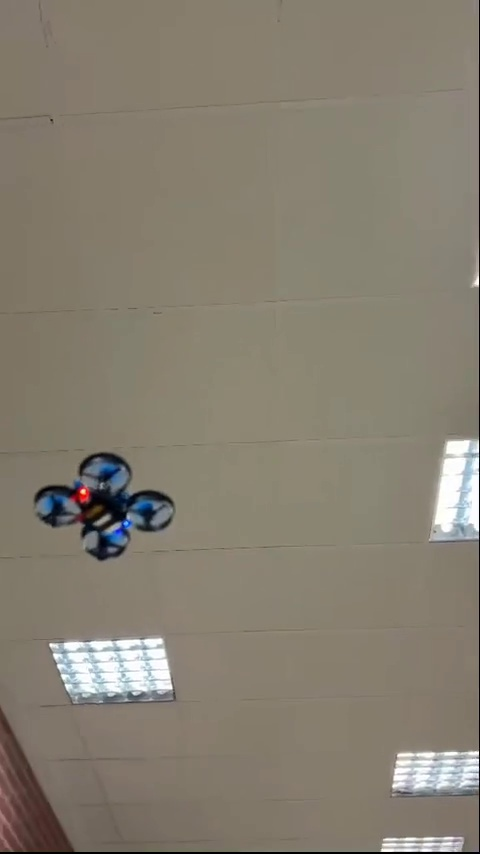drone: (35, 452, 176, 559)
